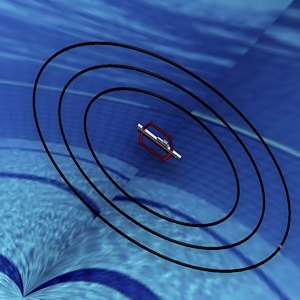circle: (18, 33, 295, 280)
submarine: (131, 116, 185, 170)
